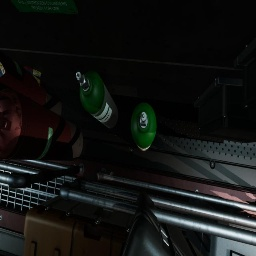0: (76, 71, 118, 128), (131, 102, 157, 151)
NitrogenTank ,: (0, 88, 83, 161), (0, 51, 62, 116)
